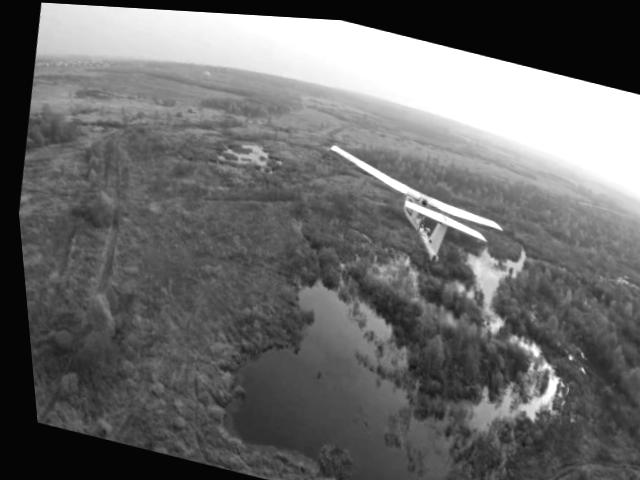hedef: (314, 131, 501, 271)
